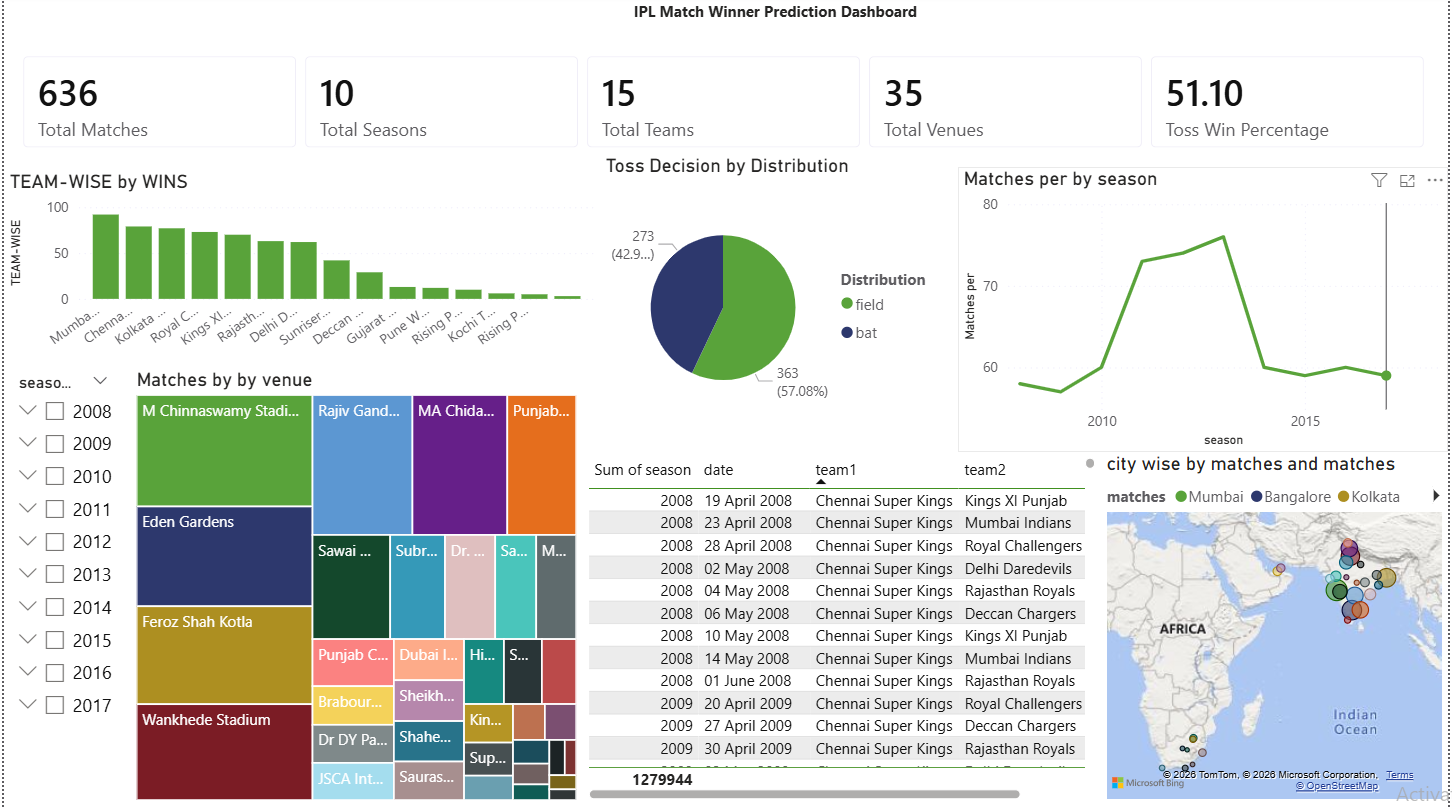

The page's visual inventory and layout, read from the dashboard file:
{"tool":"powerbi","page":{"name":"Page 1","canvas":[1280,720],"ordinal":0},"visuals":[{"type":"cardVisual","fields":{"Data":["matches.Total Matches","matches.Total Seasons","matches.Total Teams","matches.Total Venues","matches.Toss Win Percentage"]},"box":[0,36,1280,115.7],"z":0},{"type":"clusteredColumnChart","fields":{"Y":["CountNonNull(matches.winner)"],"Category":["matches.winner"]},"box":[0,154.7,528.1,168.3],"z":1000},{"type":"lineChart","fields":{"Y":["CountNonNull(matches.id)"],"Category":["matches.season"]},"box":[846.2,151.7,433.8,252.9],"z":2000},{"type":"pieChart","fields":{"Category":["matches.toss_decision"],"Y":["CountNonNull(matches.toss_decision)"]},"box":[528.5,140.1,310.3,253.6],"z":3000},{"type":"treemap","fields":{"Group":["matches.venue"],"Values":["Sum(matches.id)"]},"box":[112.8,329.7,399.8,388.1],"z":4000},{"type":"map","fields":{"Size":["Sum(matches.id)"],"Series":["matches.city"],"Category":["matches.city"]},"box":[972.6,404.6,307.4,313.2],"z":5000},{"type":"slicer","fields":{"Values":["matches.season","matches.winner","matches.city","matches.venue"]},"box":[0,329.7,104.1,388.1],"z":6000},{"type":"tableEx","fields":{"Values":["Sum(matches.season)","matches.date","matches.team1","matches.team2"]},"box":[512.6,404.6,460.1,313.2],"z":7000},{"type":"textbox","box":[553.3,0,401.7,36.4],"z":7001}]}

Visuals, with their boxes in screenshot pixels (x1, y1, x2, y2), scaled from the page's 1280x720 canvas onto the 1452x807 screenshot:
cardVisual - matches.Total Matches x matches.Total Seasons: bbox=(0, 40, 1451, 170)
clusteredColumnChart - CountNonNull(matches.winner) x matches.winner: bbox=(0, 173, 599, 362)
lineChart - CountNonNull(matches.id) x matches.season: bbox=(960, 170, 1451, 453)
pieChart - matches.toss_decision x CountNonNull(matches.toss_decision): bbox=(600, 157, 952, 441)
treemap - matches.venue x Sum(matches.id): bbox=(128, 370, 581, 805)
map - Sum(matches.id) x matches.city: bbox=(1103, 453, 1451, 805)
slicer - matches.season x matches.winner: bbox=(0, 370, 118, 805)
tableEx - Sum(matches.season) x matches.date: bbox=(581, 453, 1103, 805)
textbox: bbox=(628, 0, 1083, 41)
